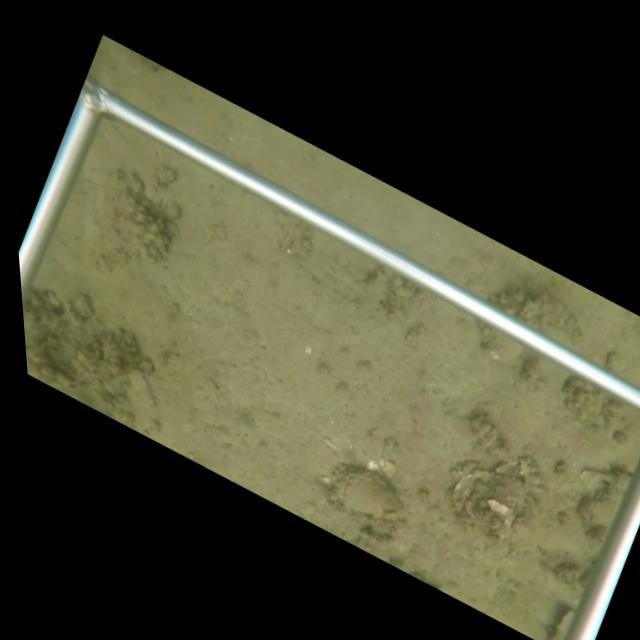Oyster-Indeterminate: (325, 462, 408, 529), (576, 469, 632, 543), (123, 366, 159, 435)
